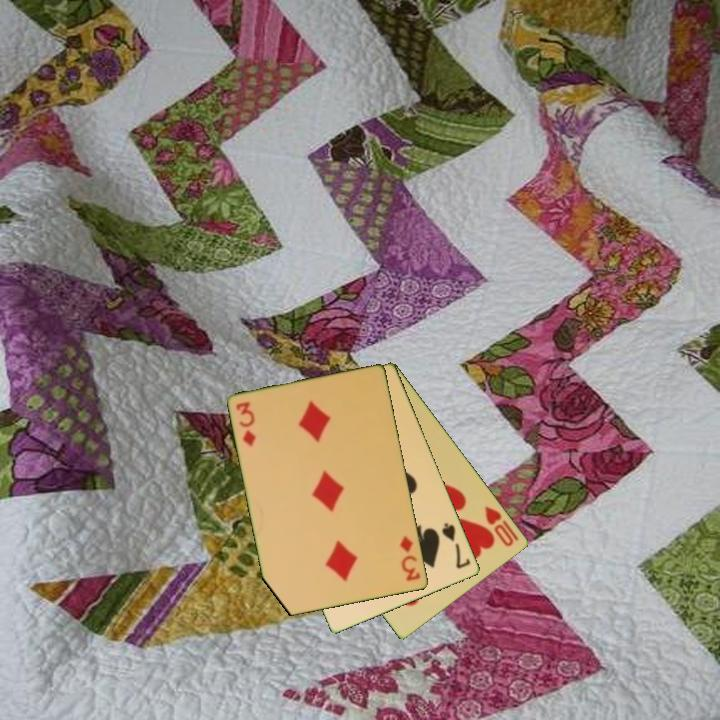10h: (481, 503, 522, 550)
3d: (397, 532, 423, 584), (233, 398, 259, 449)
7s: (439, 519, 473, 572)
